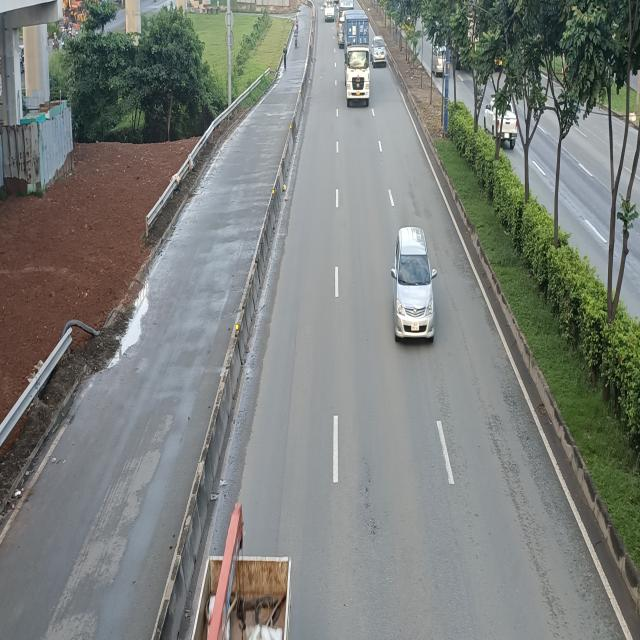car: (394, 226, 438, 343)
container: (343, 11, 373, 107)
